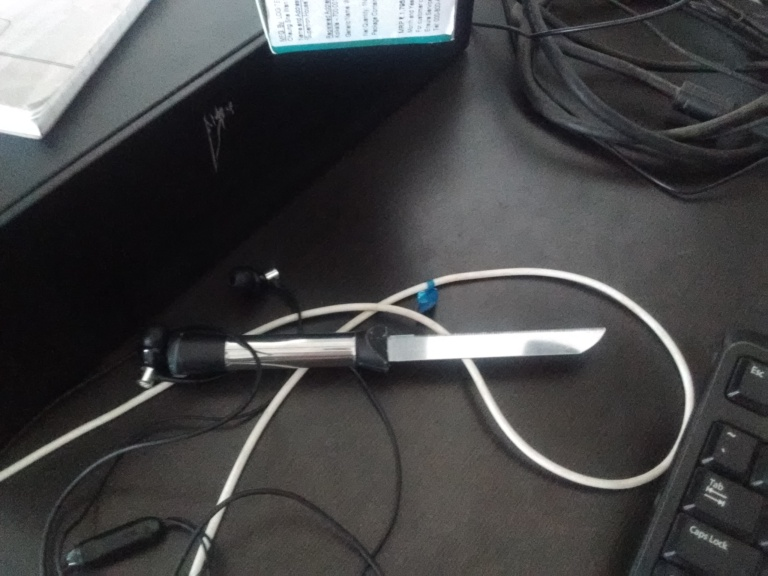knife: (166, 321, 609, 375)
